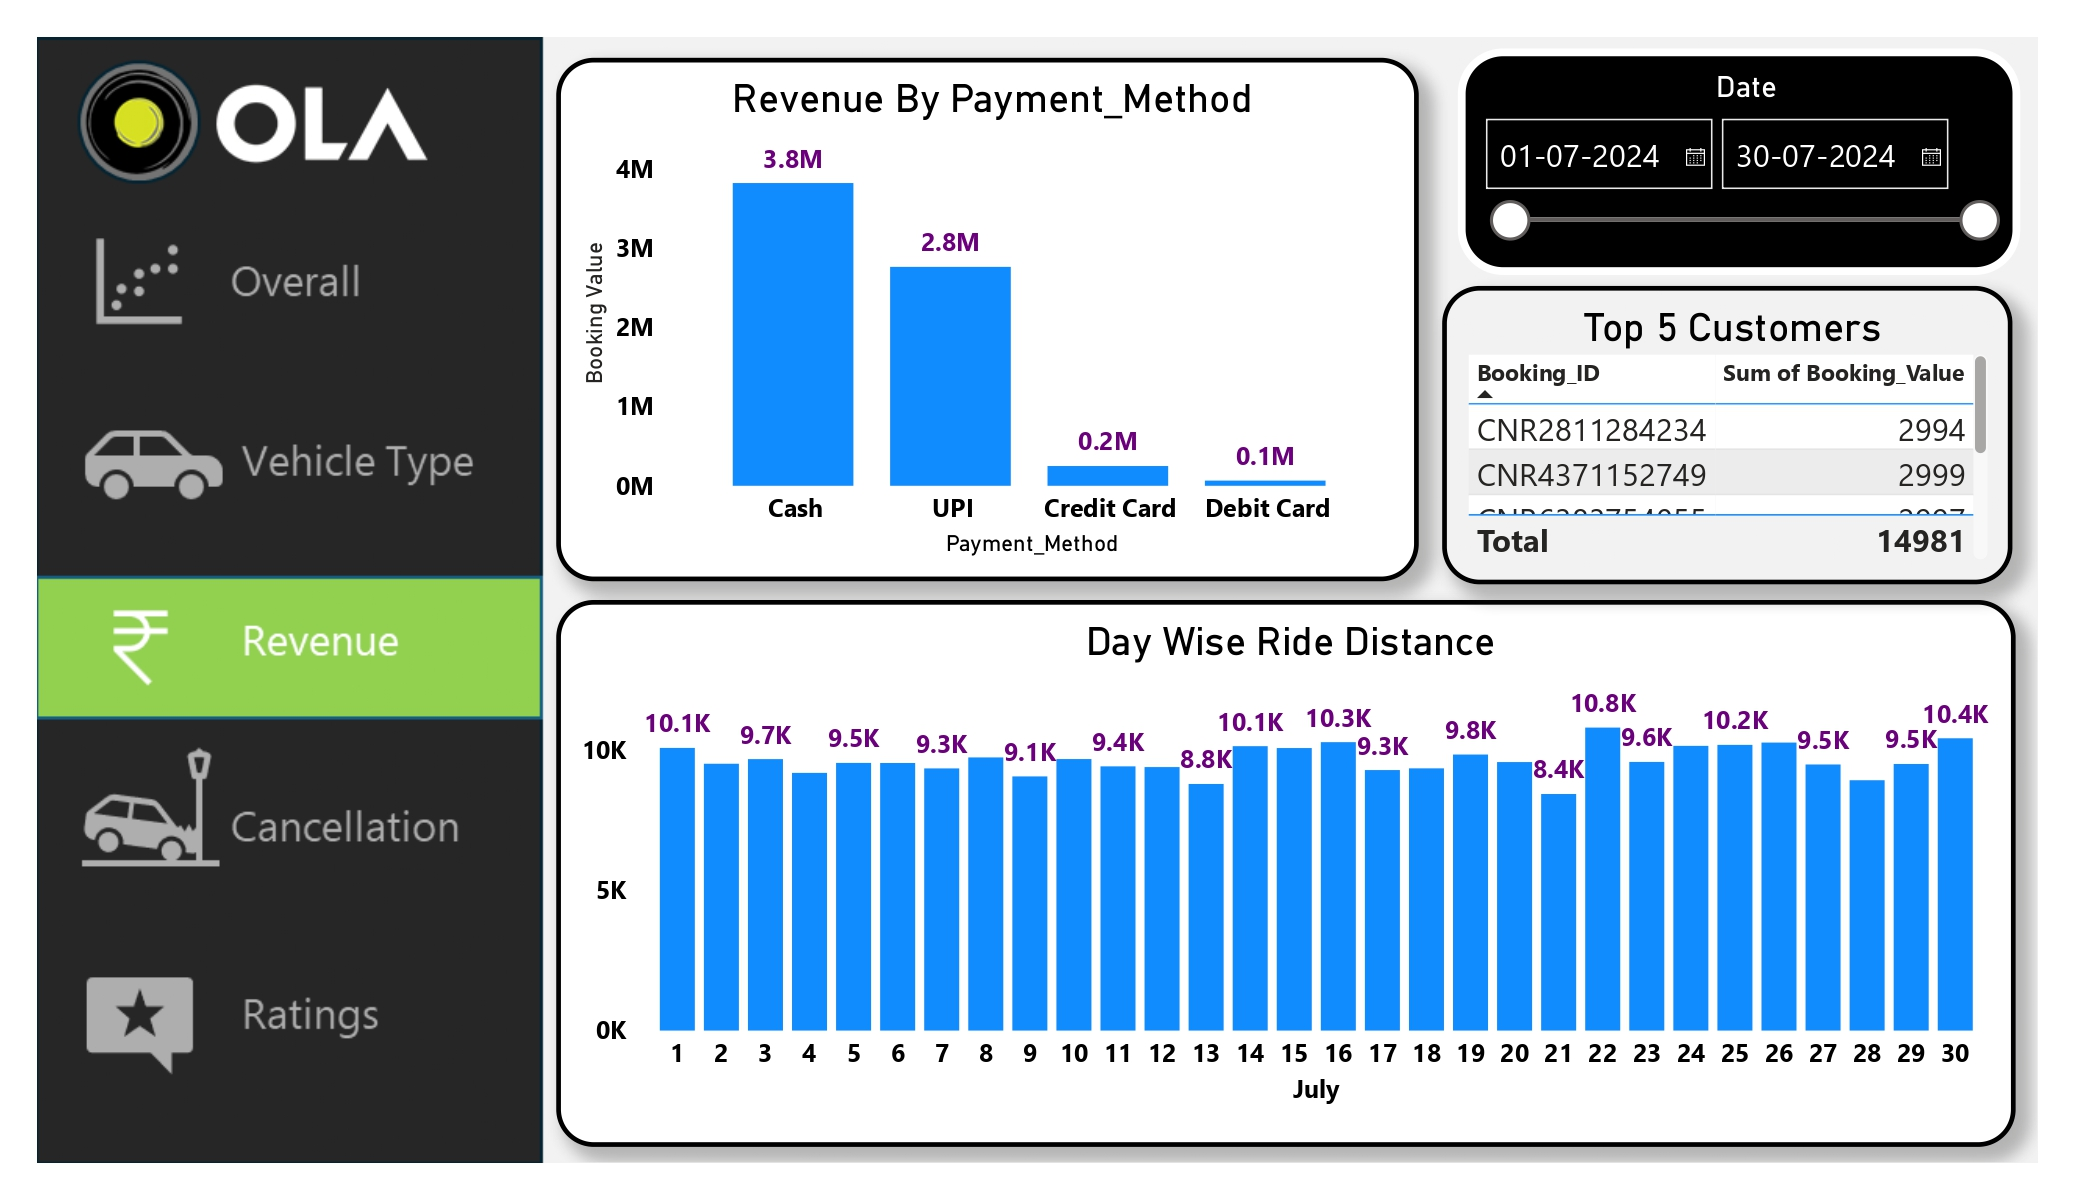

The page's visual inventory and layout, read from the dashboard file:
{"tool":"powerbi","page":{"name":"Revenue","canvas":[1280,720],"ordinal":2},"visuals":[{"type":"actionButton","box":[0,226.2,323.8,97.6],"z":0},{"type":"actionButton","box":[0,109.4,324.5,98.3],"z":1000},{"type":"actionButton","box":[1.9,454.3,324.5,98.3],"z":2000},{"type":"actionButton","box":[1.9,574.8,324.5,98.3],"z":3000},{"type":"columnChart","title":"Revenue By Payment_Method","fields":{"Category":["Bookings.Payment_Method"],"Y":["Sum(Bookings.Booking_Value)"]},"box":[331.9,13,552.5,335],"z":4000},{"type":"columnChart","title":"Day Wise Ride Distance","fields":{"Y":["Sum(Bookings.Ride_Distance)"],"Category":["Bookings.Date.Variation.Date Hierarchy.Month","Bookings.Date.Variation.Date Hierarchy.Day"]},"box":[331.9,359.7,934.5,350.4],"z":5000},{"type":"slicer","title":"Date","fields":{"Values":["Bookings.Date"]},"box":[909.1,7.4,360.2,144.6],"z":6000},{"type":"tableEx","title":"Top 5 Customers","fields":{"Values":["Bookings.Booking_ID","Sum(Bookings.Booking_Value)"]},"box":[899.3,159.3,365.1,191.1],"z":7000}]}

Visuals, with their boxes in screenshot pixels (x1, y1, x2, y2):
actionButton: {"x1": 43, "y1": 387, "x2": 543, "y2": 537}
actionButton: {"x1": 43, "y1": 207, "x2": 544, "y2": 358}
actionButton: {"x1": 46, "y1": 738, "x2": 547, "y2": 890}
actionButton: {"x1": 46, "y1": 924, "x2": 547, "y2": 1076}
"Revenue By Payment_Method" columnChart: {"x1": 555, "y1": 58, "x2": 1407, "y2": 574}
"Day Wise Ride Distance" columnChart: {"x1": 555, "y1": 592, "x2": 1996, "y2": 1133}
"Date" slicer: {"x1": 1445, "y1": 49, "x2": 2001, "y2": 272}
"Top 5 Customers" tableEx: {"x1": 1430, "y1": 283, "x2": 1993, "y2": 578}
